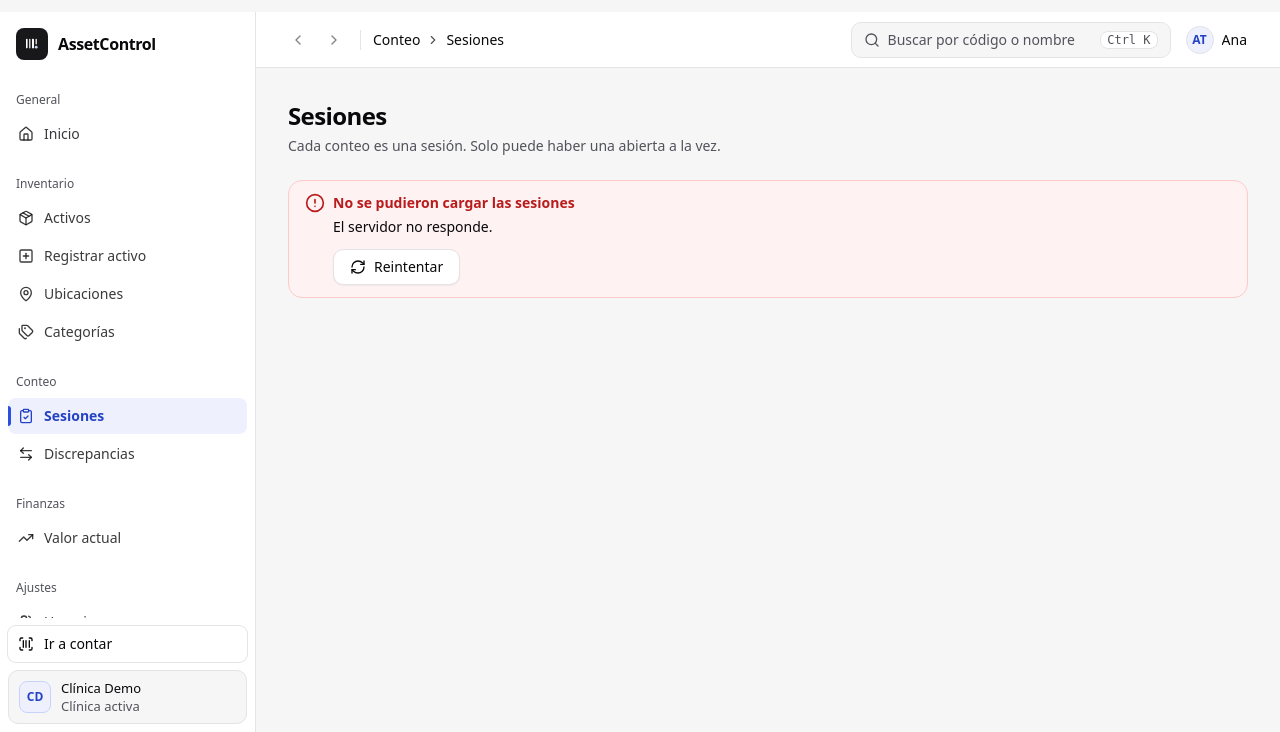
Test: caracterización de Sesiones (T9): lo que no cambia › un error lo dice y «Reintentar» vuelve a pedir
Check: the text "No se pudieron cargar las sesiones" is shown, box x1=333 y1=193 x2=575 y2=212
Check: the text "El servidor no responde." is shown, box x1=333 y1=217 x2=492 y2=236
Click the button "Reintentar" at [397, 267], box x1=333 y1=249 x2=460 y2=285
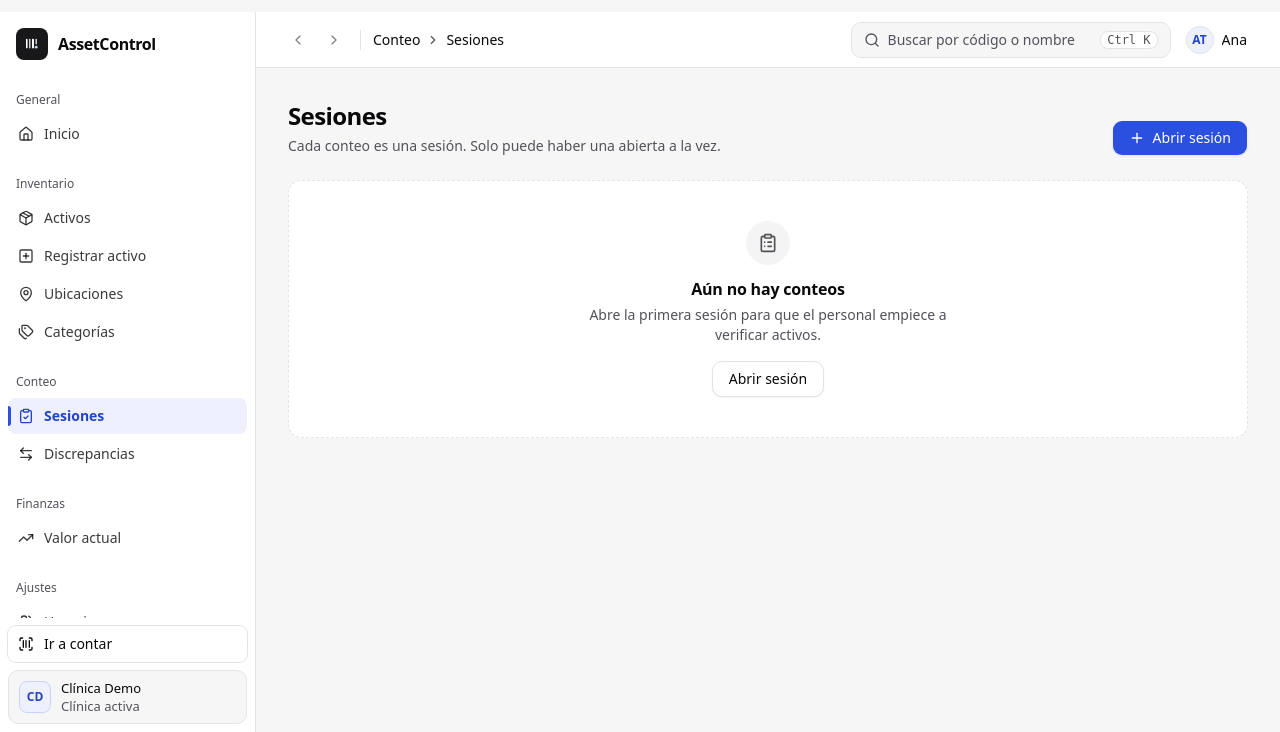
Check: the text "Aún no hay conteos" is shown, box x1=691 y1=278 x2=845 y2=300
